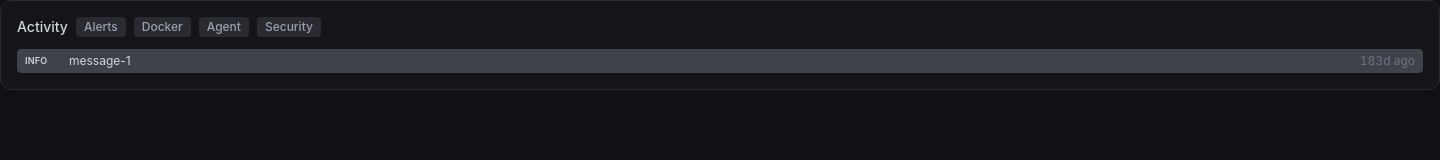
Test case: [AC-025] ActivityRiver — cap at 20 events (FR-053) › shows empty state message when no events match after filter
The width and height of the screenshot is (1440, 160).
Click the button with test id "river-chip-alerts" at (101, 27), box top-left (76, 17), bottom-right (126, 37)
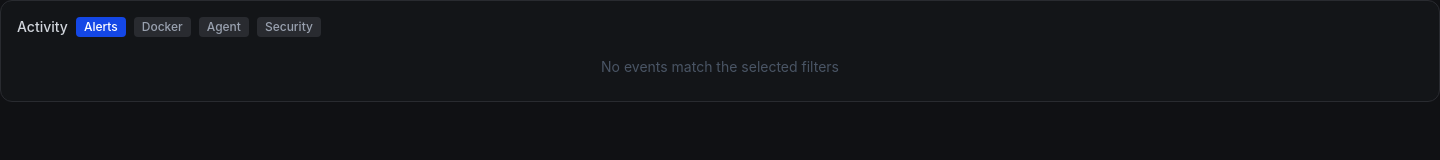
Check: the text "No events match the selected filters" is shown, box top-left (601, 58), bottom-right (839, 75)
